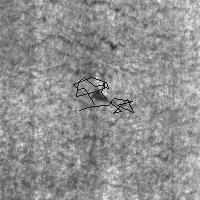crazing: (1, 1, 141, 50), (1, 107, 119, 162), (73, 77, 133, 113)
